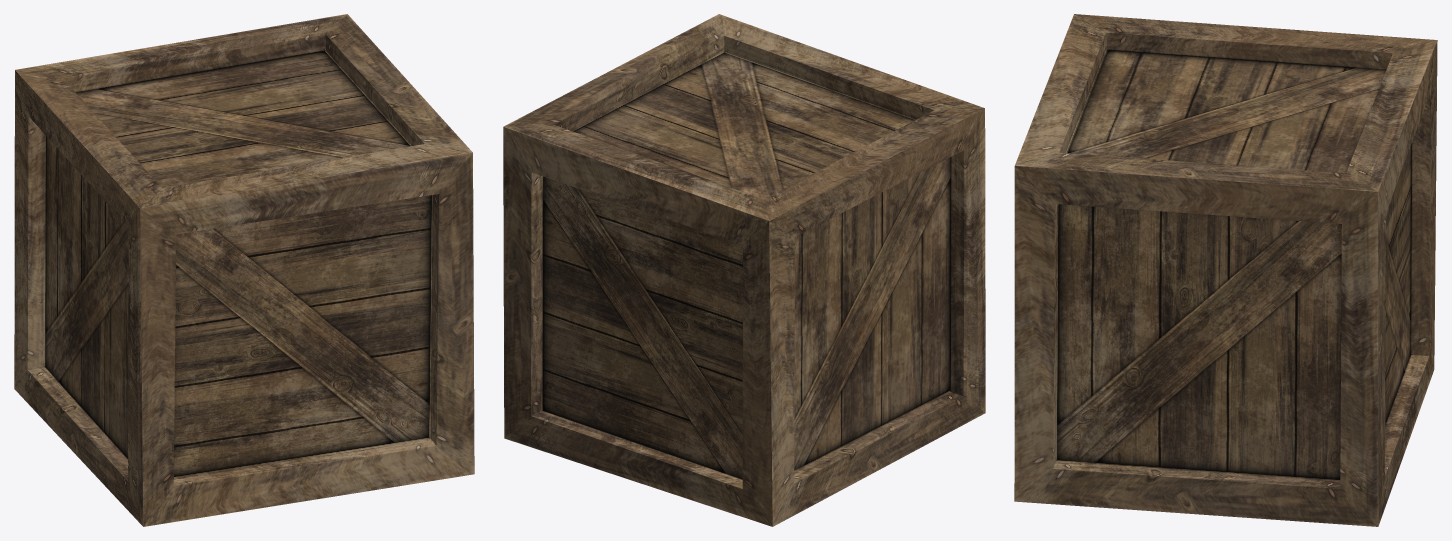
File: Crate.fbx
The picture shows the model from 3 angles, left to right: view 1: azimuth 30°, elevation 25°; view 2: azimuth 150°, elevation 25°; view 3: azimuth 270°, elevation 25°; orthographic projection. The views are drawn at different scales.
Visible parts, largest first — view 1: polySurface3; view 2: polySurface3; view 3: polySurface3.
Part boxes in pixels (x1,y1,x2,y2): polySurface3: [14, 14, 474, 526]; polySurface3: [503, 14, 985, 526]; polySurface3: [1014, 14, 1437, 526].
Bounding box in the file's own units: 72.59 × 63.55 × 72.33.
